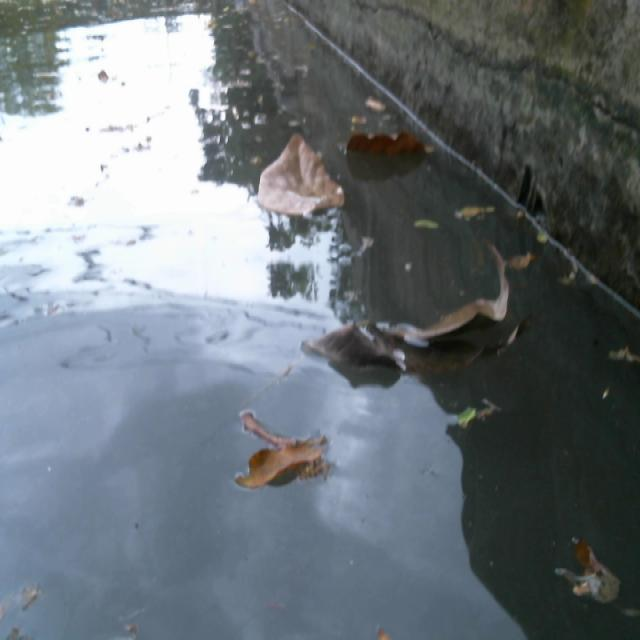Big-leaf: (295, 252, 517, 392), (229, 406, 335, 515), (256, 134, 346, 225), (344, 127, 437, 164)
Small-leaf: (551, 522, 631, 616), (439, 394, 493, 430), (603, 337, 640, 383), (445, 194, 492, 227), (507, 243, 538, 278), (412, 209, 449, 235), (345, 107, 378, 134), (365, 93, 396, 120), (370, 621, 392, 640)
